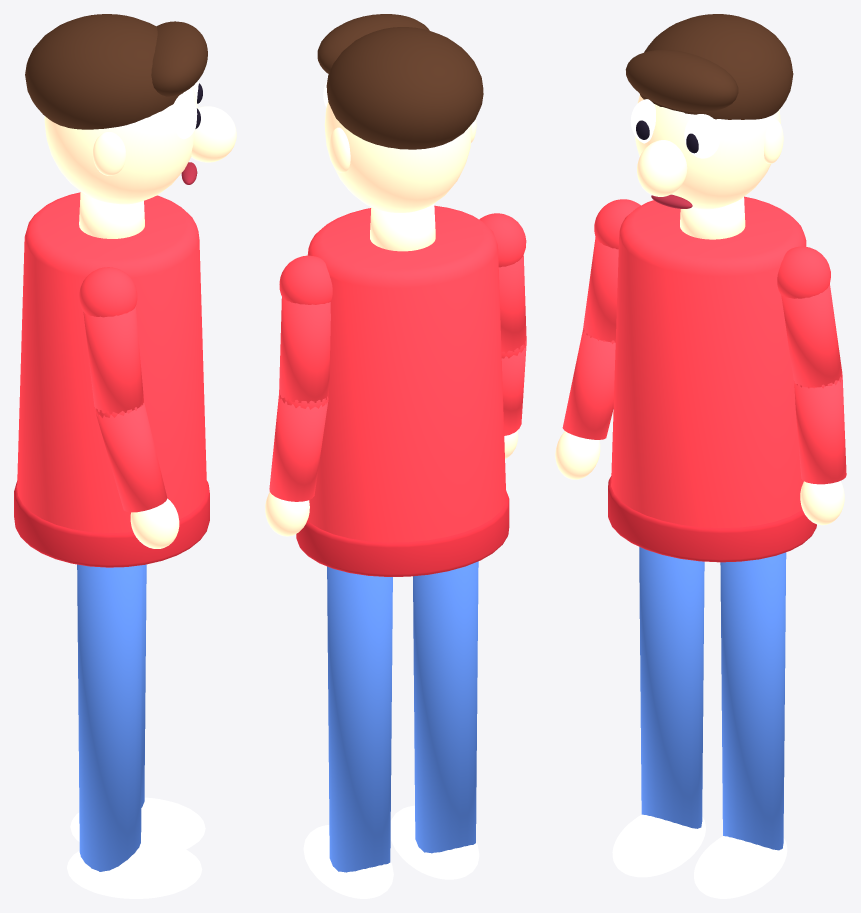
Rendered from dave.glb.
3 views of the same model, side by side, from view 1: azimuth 30°, elevation 25°; view 2: azimuth 150°, elevation 25°; view 3: azimuth 270°, elevation 25° (orthographic).
Parts seen in each view (by area): view 1: Dv_Pulli.001, Dv_BeinR.001, Dv_Haar.001, Dv_Kopf.001, Dv_Bund.001, Dv_SchuhR.001, Dv_OAR.001, Dv_UAR.001, Dv_Tolle.001, Dv_SchuhL.001, Dv_ShKR.001, Dv_Hals.001 (+5 smaller); view 2: Dv_Pulli.001, Dv_BeinL.001, Dv_BeinR.001, Dv_Haar.001, Dv_Kopf.001, Dv_Bund.001, Dv_OAL.001, Dv_UAL.001, Dv_SchuhL.001, Dv_SchuhR.001, Dv_Hals.001, Dv_OAR.001 (+6 smaller); view 3: Dv_Pulli.001, Dv_BeinL.001, Dv_BeinR.001, Dv_Haar.001, Dv_Bund.001, Dv_Kopf.001, Dv_Tolle.001, Dv_UAL.001, Dv_OAL.001, Dv_UAR.001, Dv_SchuhR.001, Dv_SchuhL.001 (+10 smaller).
Part boxes in pixels (left/top/right/bottom): Dv_Pulli.001: left=17, top=192, right=206, bottom=533; Dv_BeinR.001: left=77, top=564, right=143, bottom=871; Dv_Haar.001: left=25, top=14, right=183, bottom=129; Dv_Kopf.001: left=44, top=86, right=197, bottom=204; Dv_Bund.001: left=14, top=480, right=209, bottom=567; Dv_SchuhR.001: left=67, top=838, right=202, bottom=898; Dv_OAR.001: left=83, top=306, right=143, bottom=413; Dv_UAR.001: left=96, top=402, right=167, bottom=512; Dv_Tolle.001: left=151, top=21, right=207, bottom=96; Dv_SchuhL.001: left=70, top=797, right=205, bottom=849; Dv_ShKR.001: left=79, top=267, right=137, bottom=317; Dv_Hals.001: left=79, top=191, right=144, bottom=238; Dv_Pulli.001: left=307, top=205, right=506, bottom=542; Dv_BeinL.001: left=327, top=566, right=392, bottom=872; Dv_BeinR.001: left=413, top=561, right=478, bottom=853; Dv_Haar.001: left=326, top=27, right=483, bottom=149; Dv_Kopf.001: left=324, top=102, right=471, bottom=212; Dv_Bund.001: left=296, top=490, right=509, bottom=576; Dv_OAL.001: left=279, top=297, right=330, bottom=403; Dv_UAL.001: left=269, top=396, right=328, bottom=501; Dv_SchuhL.001: left=303, top=825, right=393, bottom=898; Dv_SchuhR.001: left=390, top=805, right=479, bottom=879; Dv_Hals.001: left=370, top=204, right=435, bottom=251; Dv_OAR.001: left=498, top=255, right=526, bottom=353; Dv_Pulli.001: left=611, top=196, right=806, bottom=528; Dv_BeinL.001: left=720, top=552, right=786, bottom=850; Dv_BeinR.001: left=639, top=547, right=704, bottom=828; Dv_Haar.001: left=640, top=14, right=793, bottom=119; Dv_Bund.001: left=608, top=476, right=816, bottom=562; Dv_Kopf.001: left=635, top=95, right=780, bottom=209; Dv_Tolle.001: left=625, top=50, right=738, bottom=112; Dv_UAL.001: left=794, top=378, right=846, bottom=484; Dv_OAL.001: left=781, top=284, right=842, bottom=387; Dv_UAR.001: left=562, top=330, right=615, bottom=439; Dv_SchuhR.001: left=612, top=814, right=705, bottom=877; Dv_SchuhL.001: left=694, top=836, right=787, bottom=898.
Bounding box in the file's own units: 0.434 × 1.94 × 0.6068.
